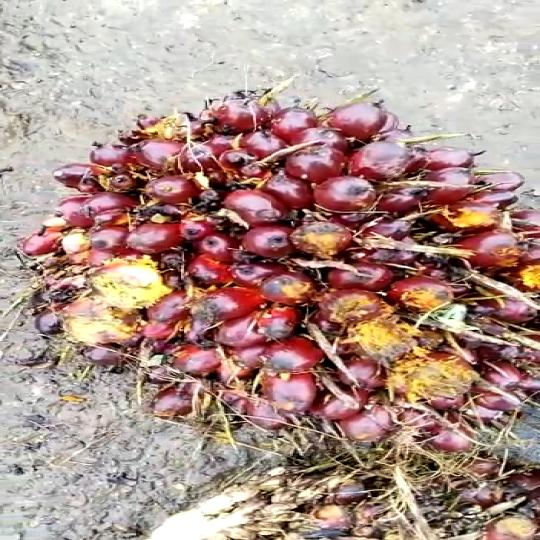masak: (13, 80, 540, 456)
